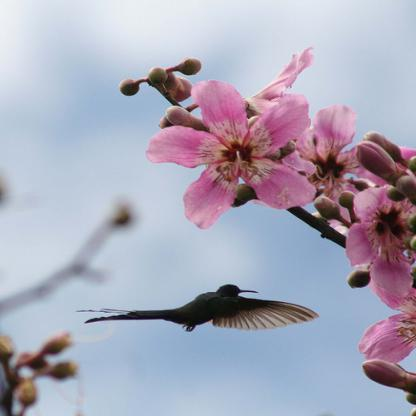bird: (75, 284, 320, 332)
